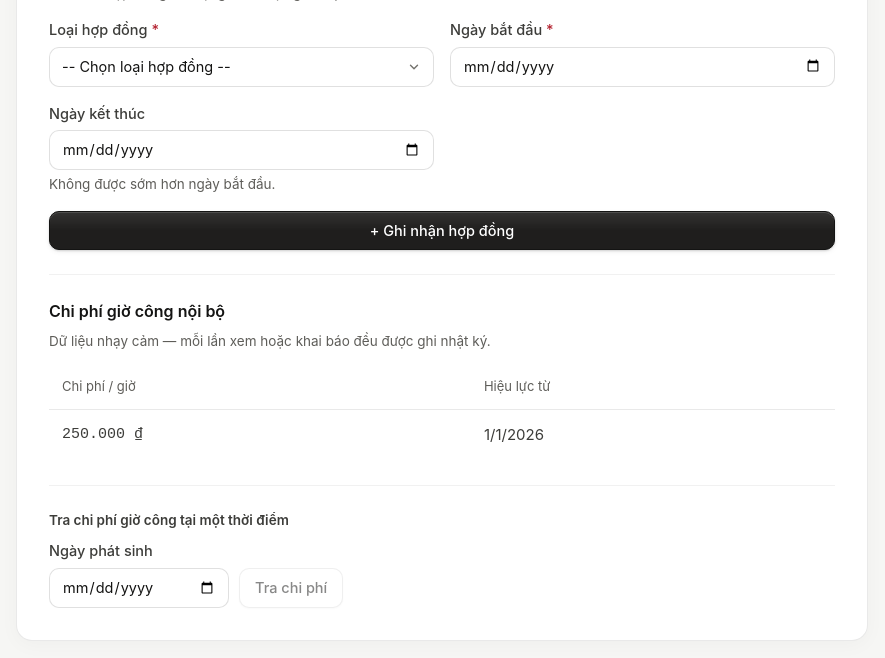
Scenario: EmployeeDetailPage — Chi phí giờ công nội bộ (NCL-07-CN-004) › TC-03: tra chi phí tại thời điểm chưa có mốc nào → hiển thị missingCostData như thông báo thông tin
(page scrolled)
Expected: the table with test id "hourly-rate-table" is shown, [49,365,835,461]
Type "2020-01-01" into the date field labelled "Ngày phát sinh".
click(139, 588); type("2020-01-01")  # box [49,568,229,608]
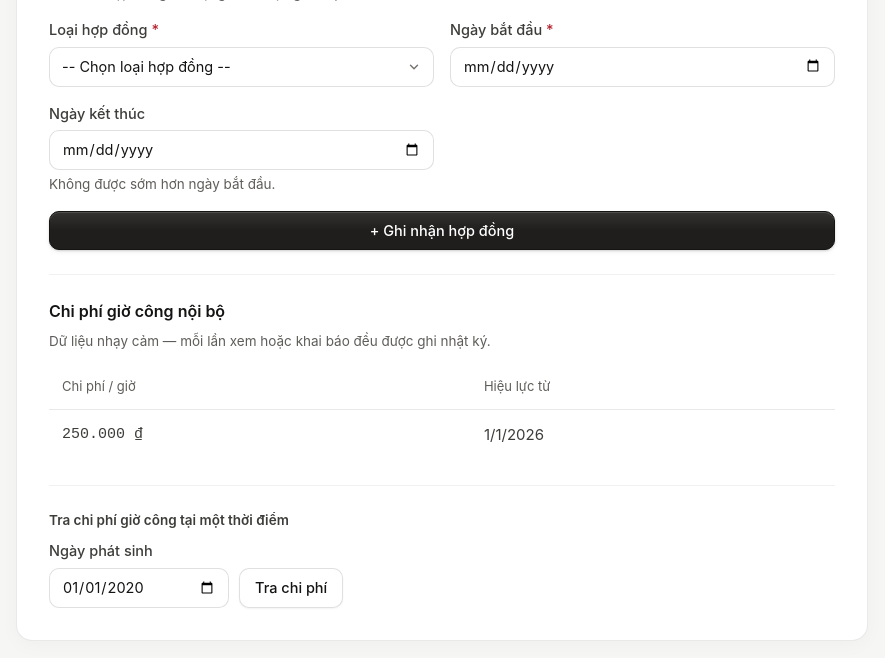
Click the button "Tra chi phí".
click(291, 588)  # box [239,568,343,608]
(page scrolled)
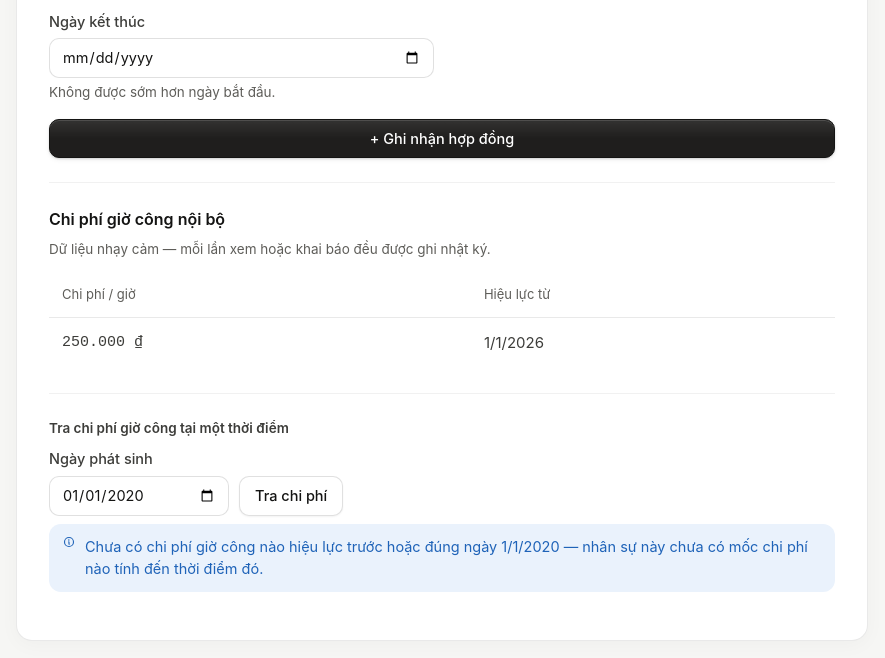
Now the message with test id "hourly-rate-missing" is shown, box [49,524,835,592]
